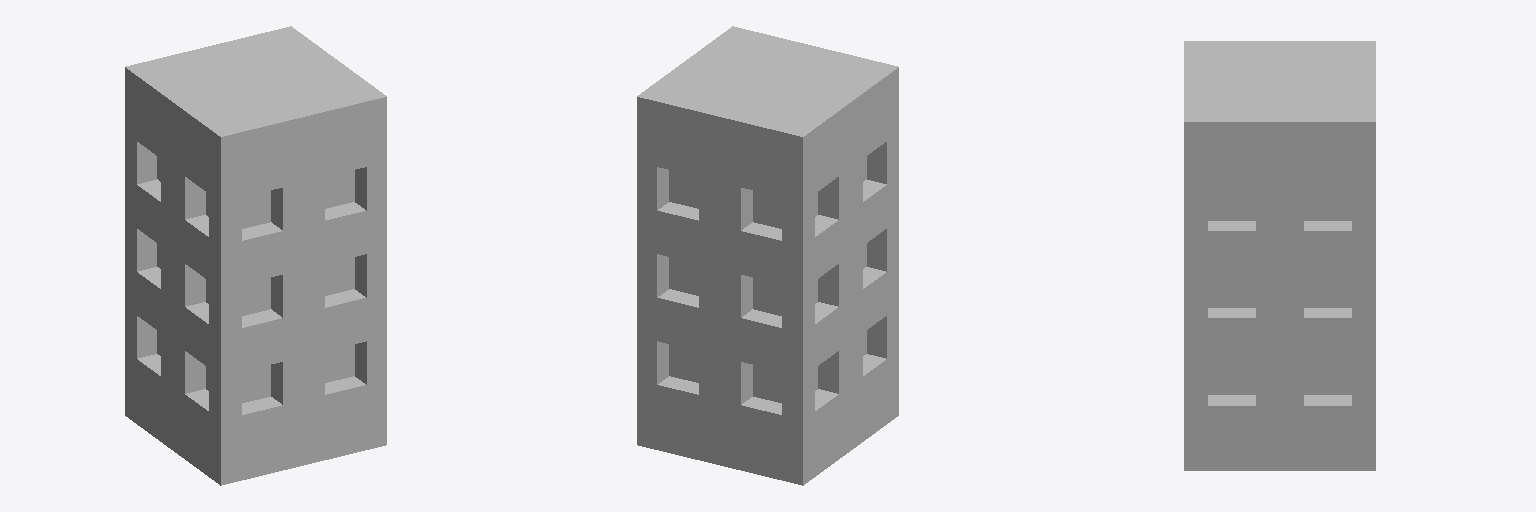
Rendered from bill.obj.
3 views of the same model, side by side, from view 1: azimuth 30°, elevation 25°; view 2: azimuth 150°, elevation 25°; view 3: azimuth 270°, elevation 25° (orthographic).
Visible parts, largest first — view 1: Cube; view 2: Cube; view 3: Cube.
Part boxes in pixels (left/top/right/bottom): Cube: left=125, top=26, right=386, bottom=485; Cube: left=637, top=26, right=898, bottom=485; Cube: left=1184, top=41, right=1375, bottom=470.
Size of the model in its own units: 2 by 4 by 2.